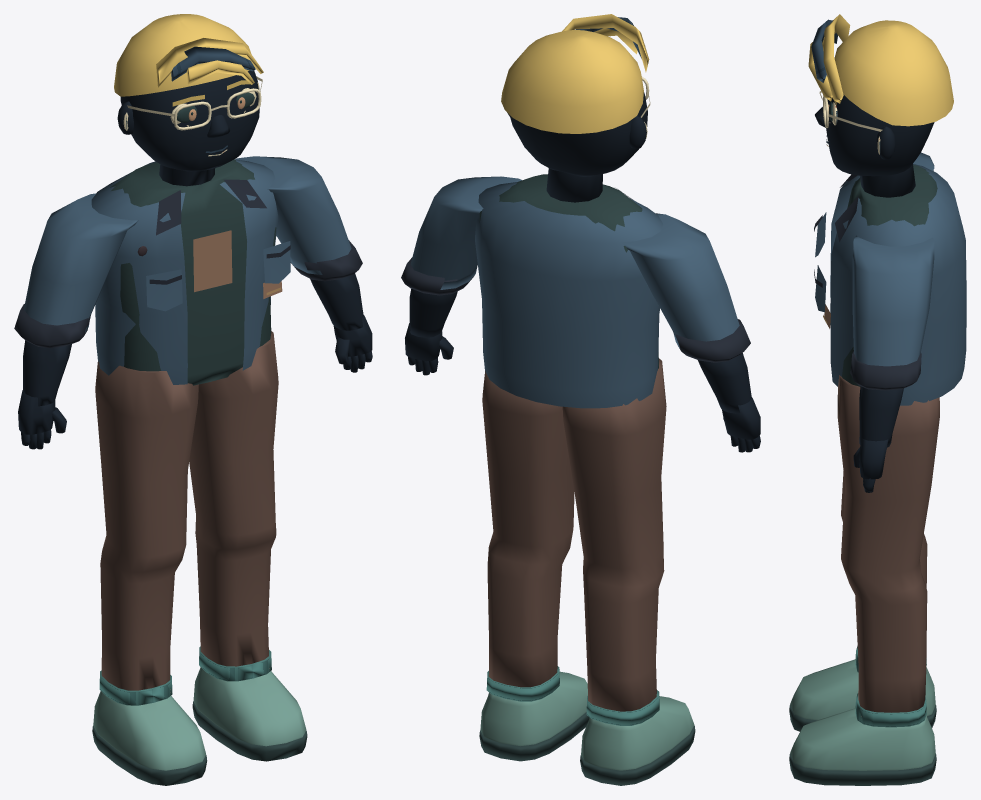
File: Eddie_Prototype.glb
The picture shows the model from 3 angles, left to right: view 1: azimuth 30°, elevation 25°; view 2: azimuth 150°, elevation 25°; view 3: azimuth 270°, elevation 25°; orthographic projection.
Parts seen in each view (by area): view 1: Eddie_Prototype; view 2: Eddie_Prototype; view 3: Eddie_Prototype.
Part boxes in pixels (left/top/right/bottom): Eddie_Prototype: left=14, top=14, right=372, bottom=785; Eddie_Prototype: left=401, top=14, right=760, bottom=785; Eddie_Prototype: left=789, top=14, right=966, bottom=785.
Bounding box in the file's own units: 0.858 × 1.69 × 0.378.
Materials: 1 (1 with a texture image).
